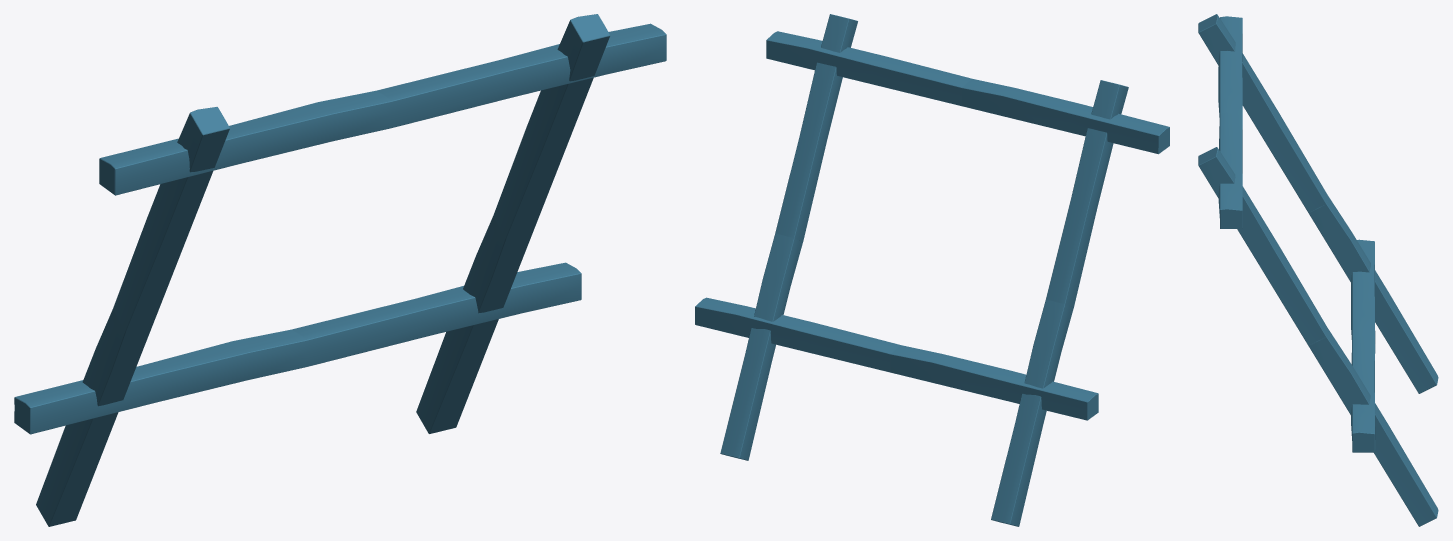
File: Beam_Structure_07A_Lod0.fbx
3 views of the same model, side by side, from view 1: azimuth 30°, elevation 25°; view 2: azimuth 150°, elevation 25°; view 3: azimuth 270°, elevation 25° (orthographic). The views are drawn at different scales.
Parts seen in each view (by area): view 1: Beam_Structure_07A_Lod0; view 2: Beam_Structure_07A_Lod0; view 3: Beam_Structure_07A_Lod0.
Part boxes in pixels (x1,y1,x2,y2): Beam_Structure_07A_Lod0: (14, 14, 666, 526); Beam_Structure_07A_Lod0: (695, 14, 1169, 526); Beam_Structure_07A_Lod0: (1198, 14, 1438, 526).
Size of the model in its own units: 406 by 360 by 211.
